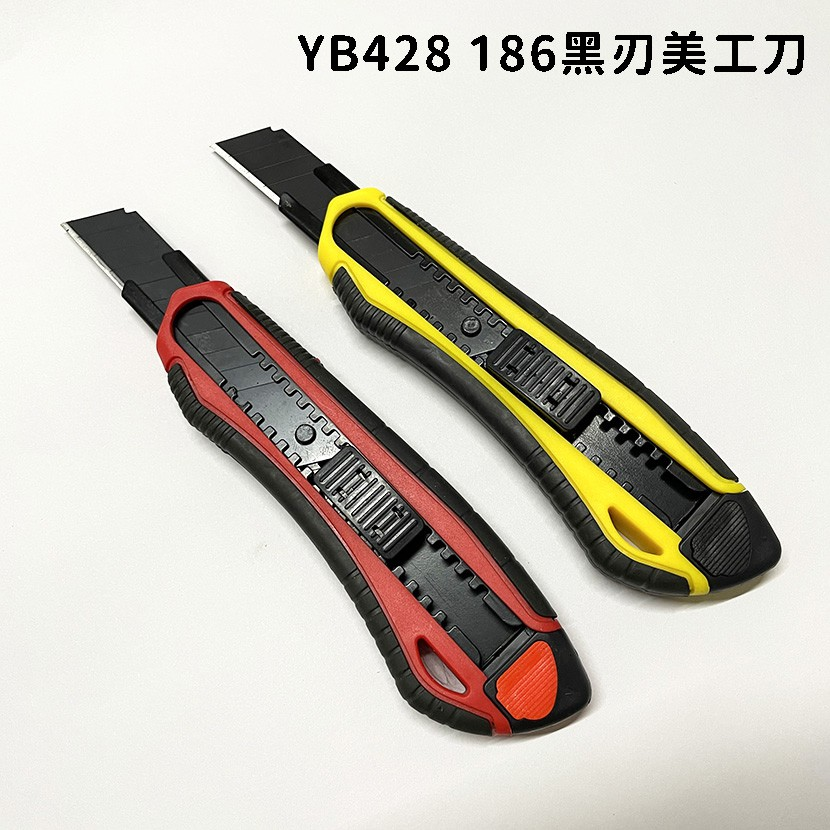cutter: (59, 205, 593, 739), (206, 125, 784, 601)
